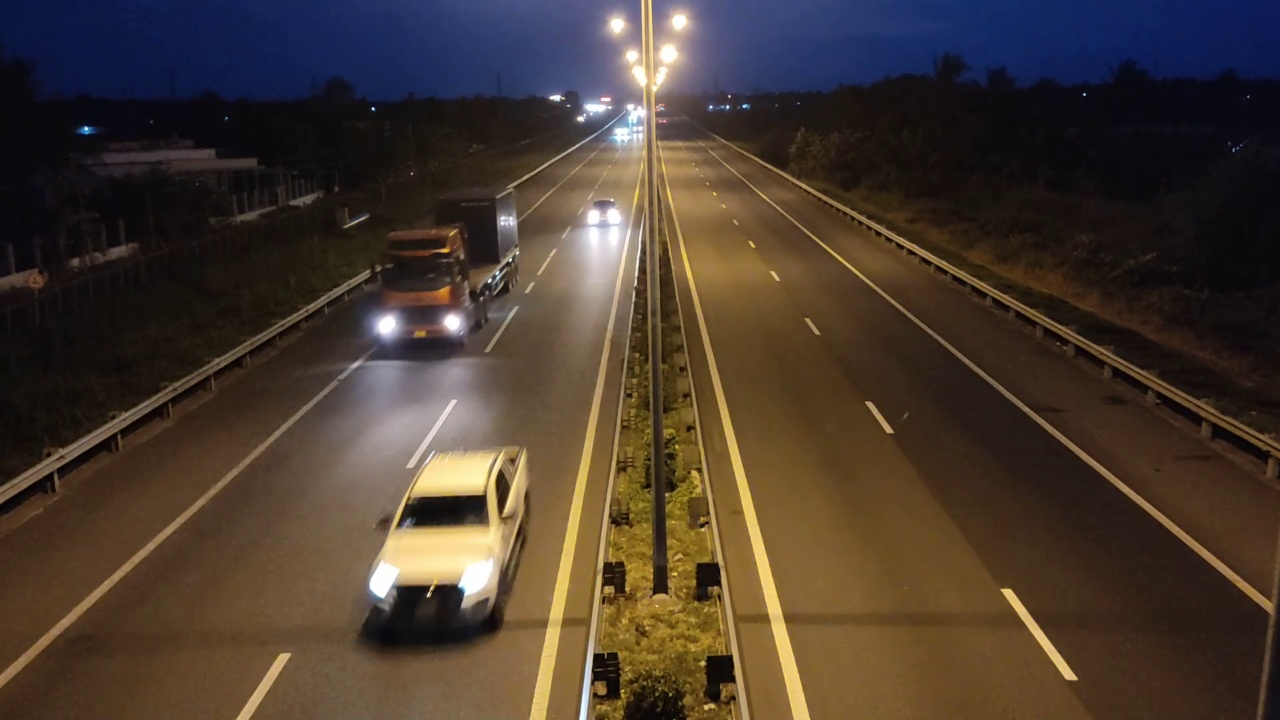car: (359, 445, 532, 641)
truck: (368, 179, 522, 357)
